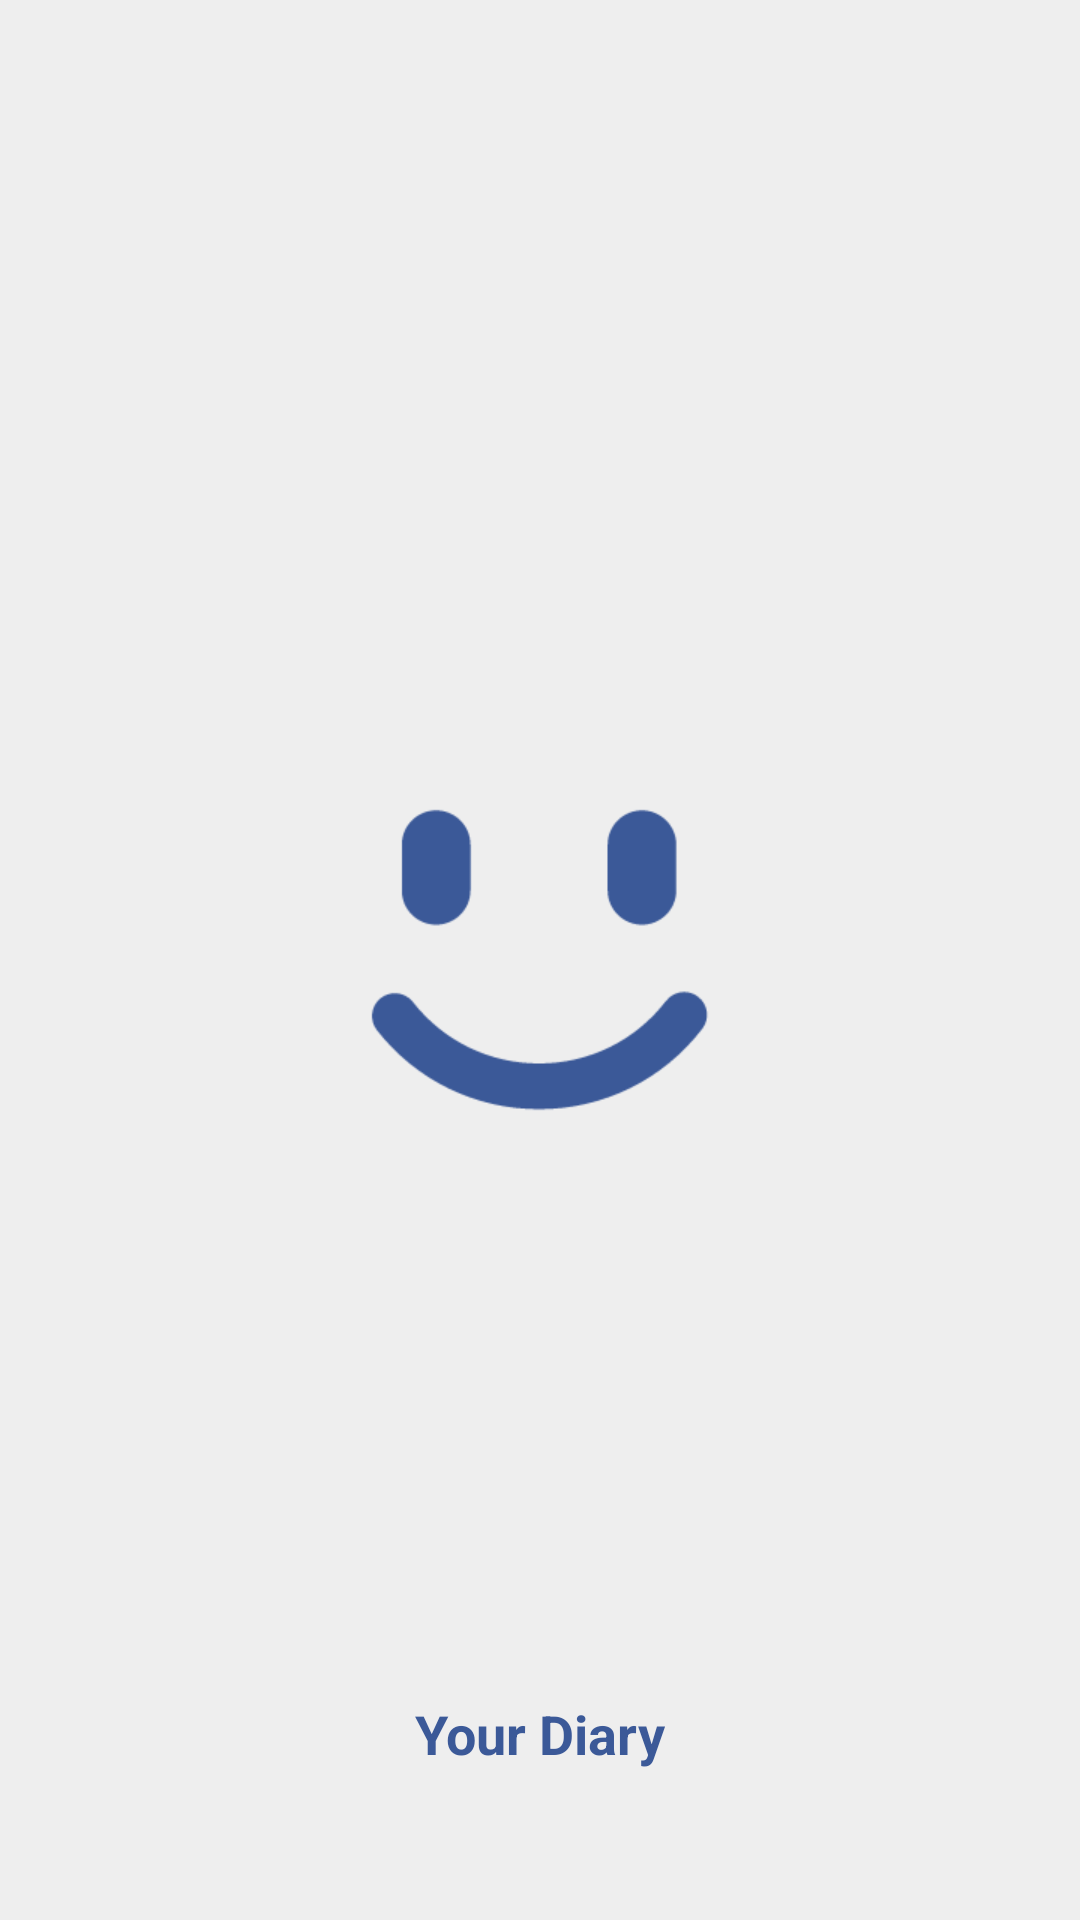

Locate icon controls on the screen. Image size 1080×1920, boxes as (x1, y1, x2, y2).
smile: (371, 810, 708, 1110)
